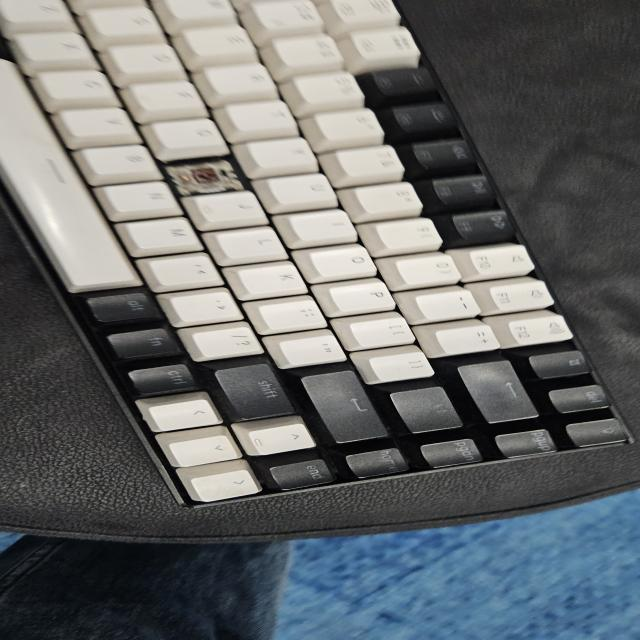C: (170, 165, 235, 192)
